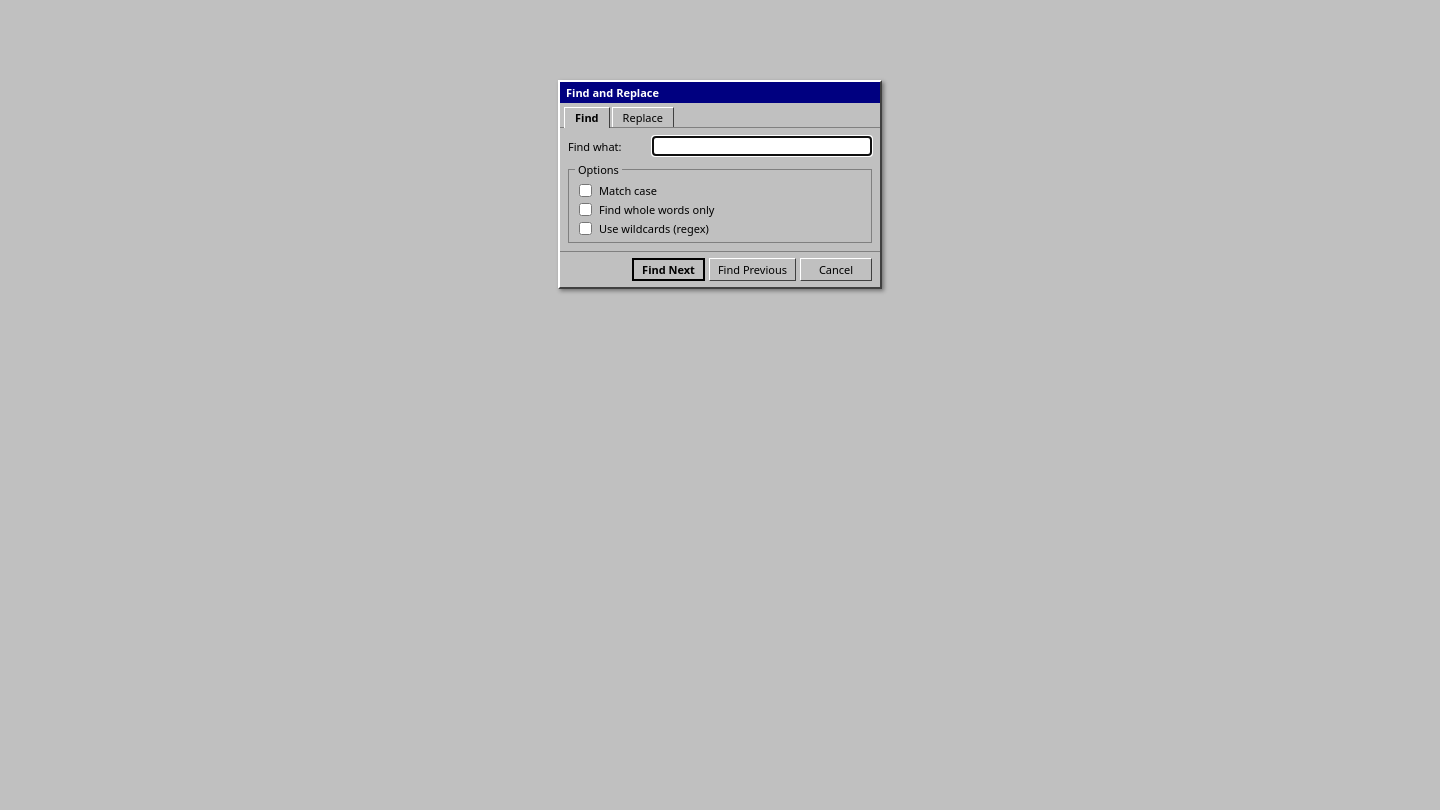
FindReplaceDialog › switching to Replace tab shows replacement field
The image size is (1440, 810).
Click the tab "Replace": {"x": 643, "y": 117} left=612, top=107, right=674, bottom=127
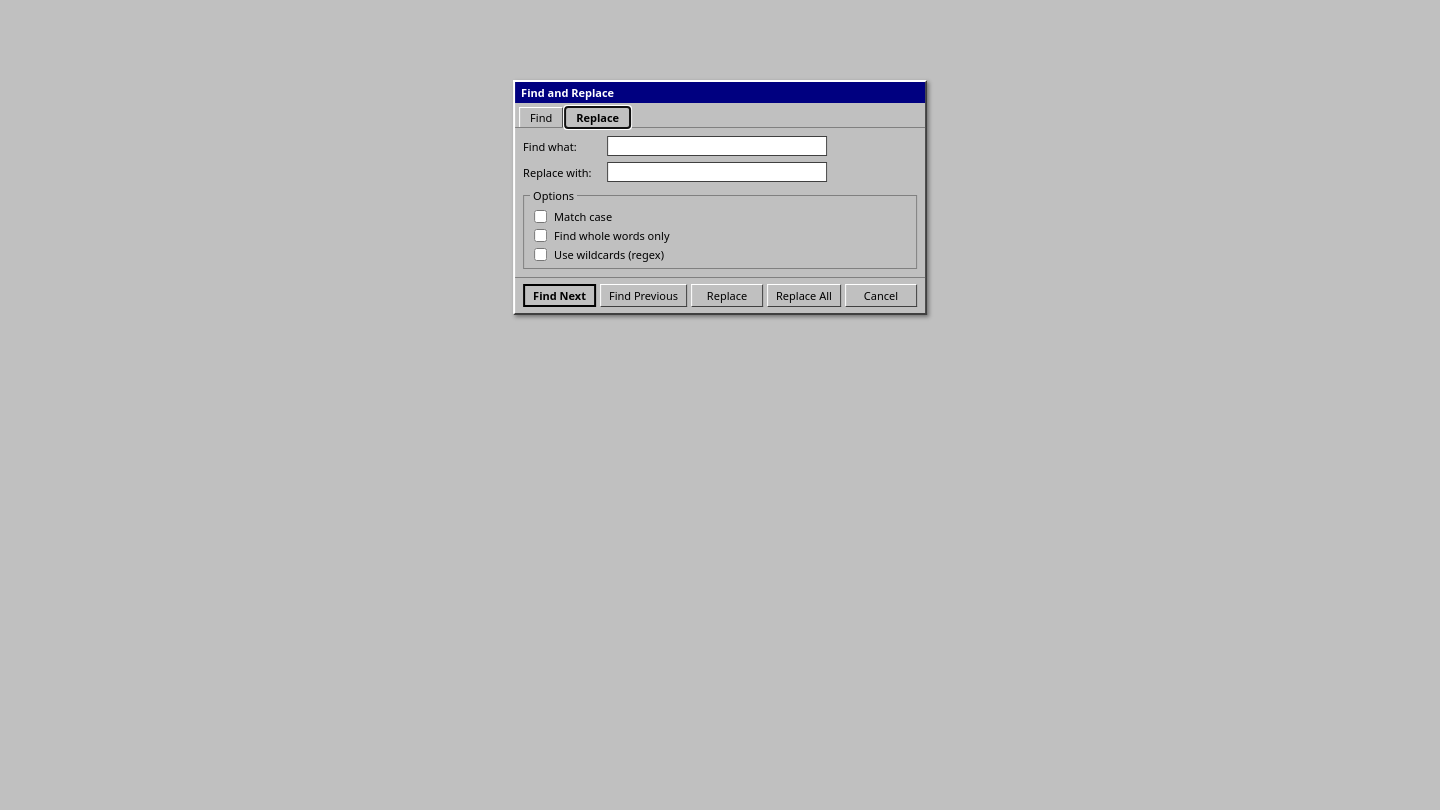
expect the field labelled "Replace with:" is shown: met, box left=607, top=162, right=827, bottom=182
